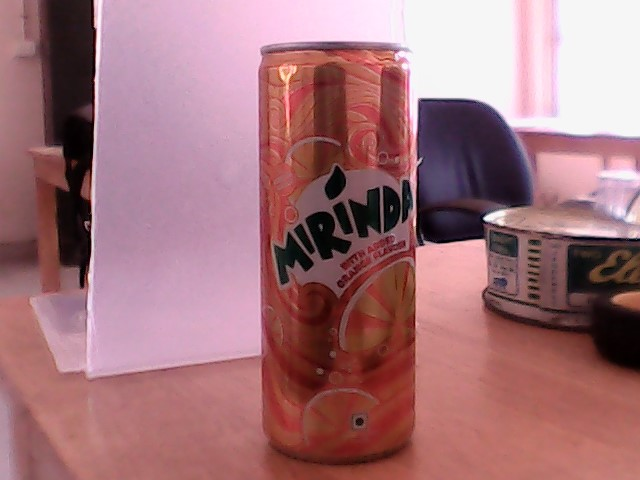Metal: (242, 36, 435, 480)
